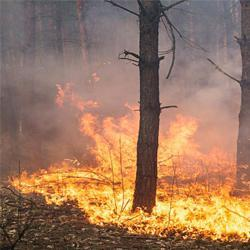fire: (46, 171, 136, 212), (165, 196, 248, 231), (99, 117, 136, 168), (163, 131, 198, 154)
